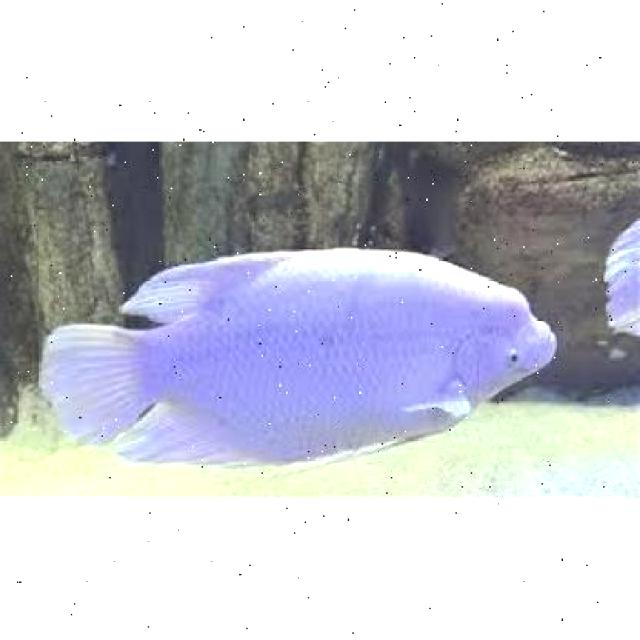gurame: (54, 247, 552, 467)
